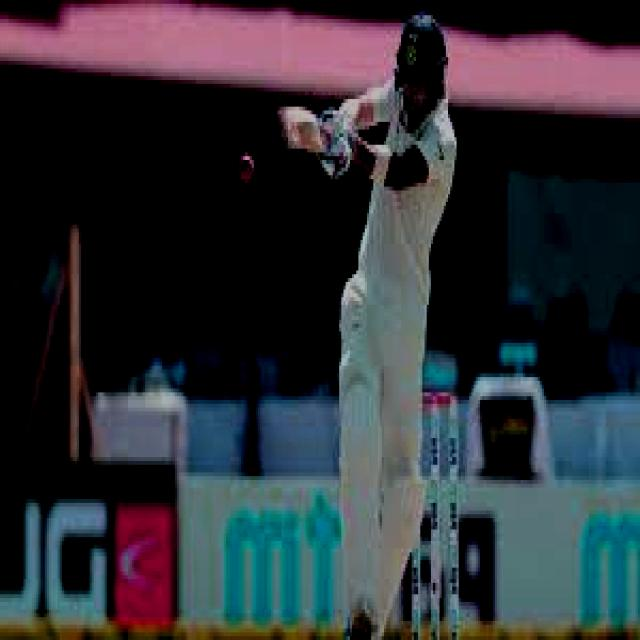toe: (270, 102, 300, 152)
